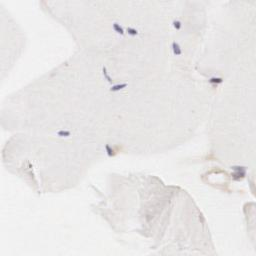nucleus: (109, 83, 129, 91), (172, 40, 181, 55), (103, 67, 111, 83), (114, 23, 124, 34), (173, 19, 181, 30), (232, 165, 249, 170), (209, 77, 223, 83), (57, 131, 70, 137), (127, 29, 138, 35), (233, 171, 246, 176), (106, 146, 112, 156)
positive_cell: (104, 145, 118, 156)
